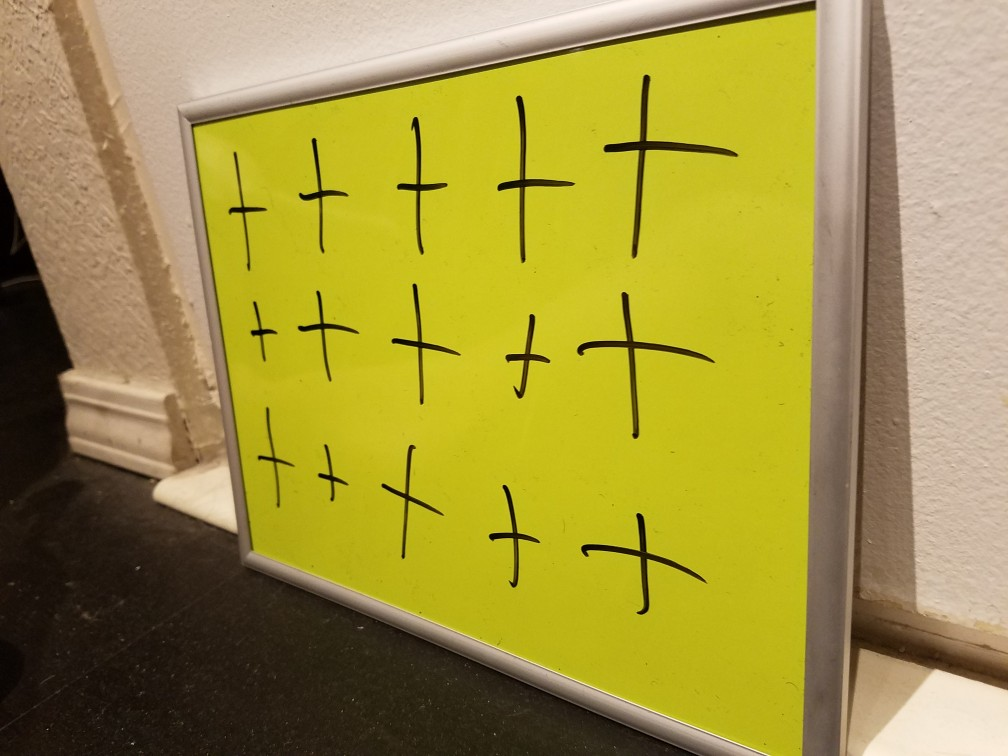+: (568, 280, 732, 479), (593, 62, 744, 274), (571, 493, 732, 656), (481, 80, 581, 268), (383, 109, 457, 263), (476, 469, 562, 601), (371, 432, 452, 568), (386, 276, 460, 420), (212, 141, 281, 280), (288, 130, 357, 269), (492, 306, 563, 423), (291, 288, 360, 392), (246, 398, 298, 523), (311, 432, 354, 522), (244, 303, 285, 371)
